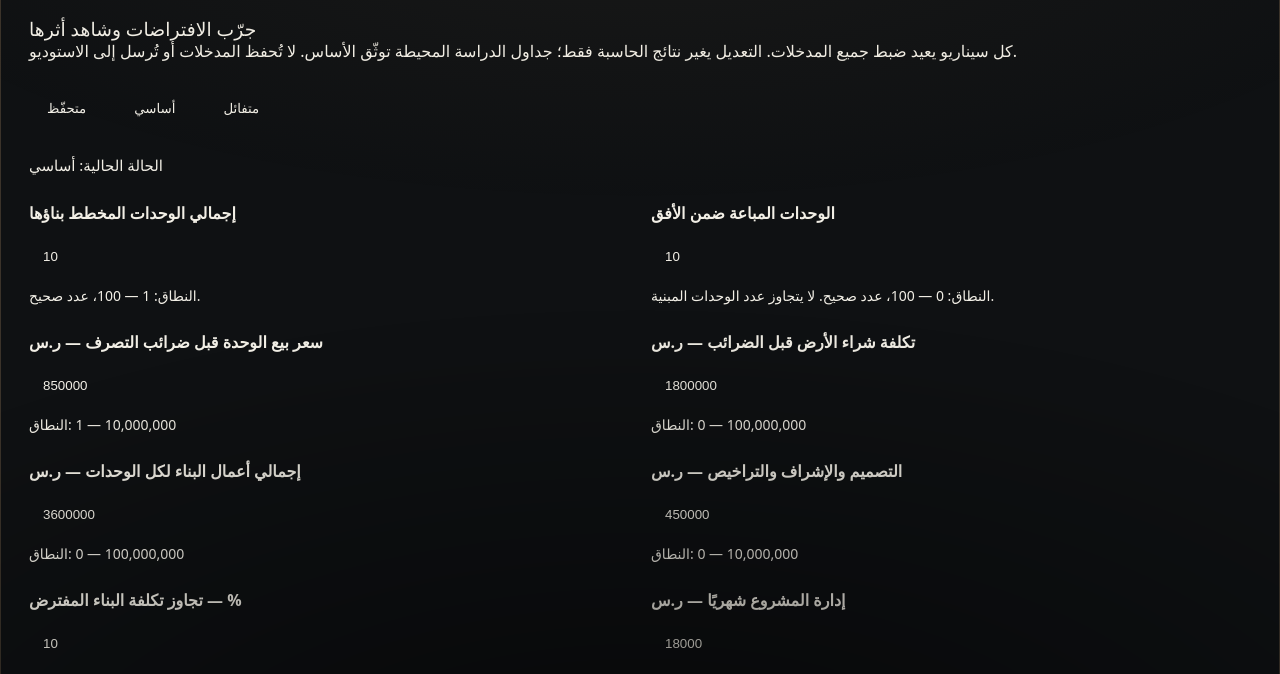
Test: Portfolio feasibility visitor journeys › exposes the development funding gap, retains unsold units and prevents selling more than built in Arabic
Replace the text in the number field labelled "الوحدات المباعة ضمن الأفق" with "8": (951, 256) x1=651 y1=232 x2=1251 y2=280
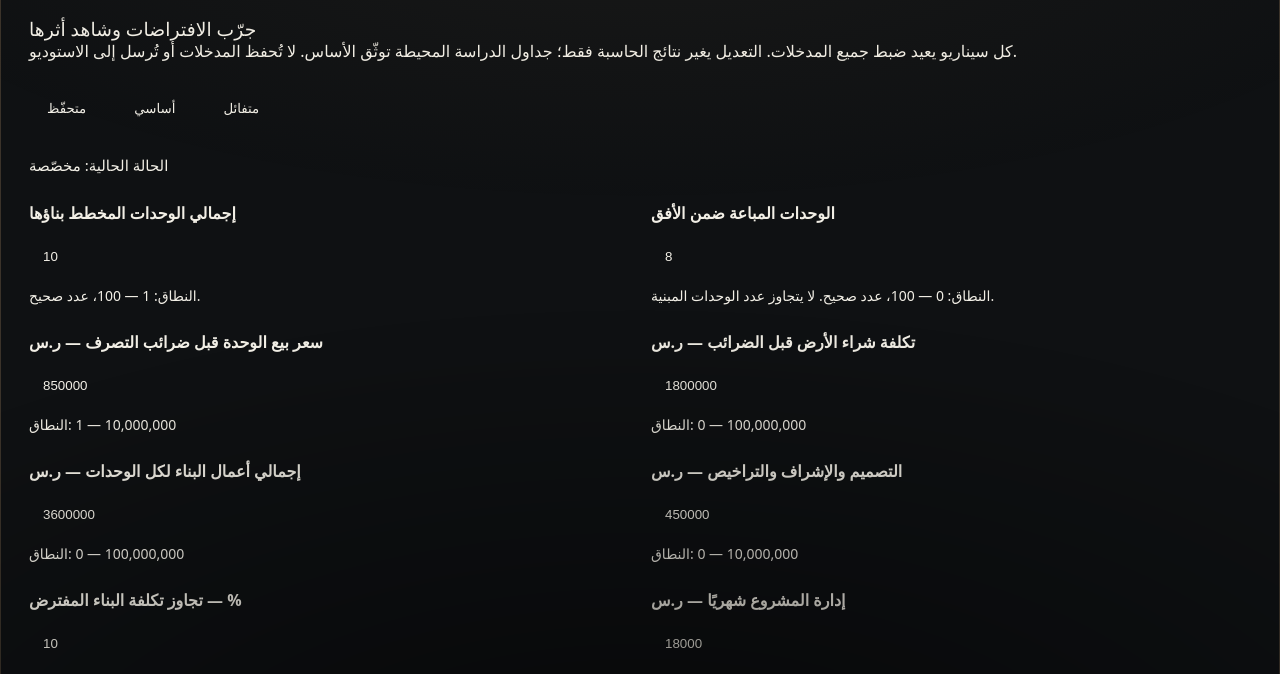
Replace the text in the number field labelled "الوحدات المباعة ضمن الأفق" with "11": (951, 256) x1=651 y1=232 x2=1251 y2=280
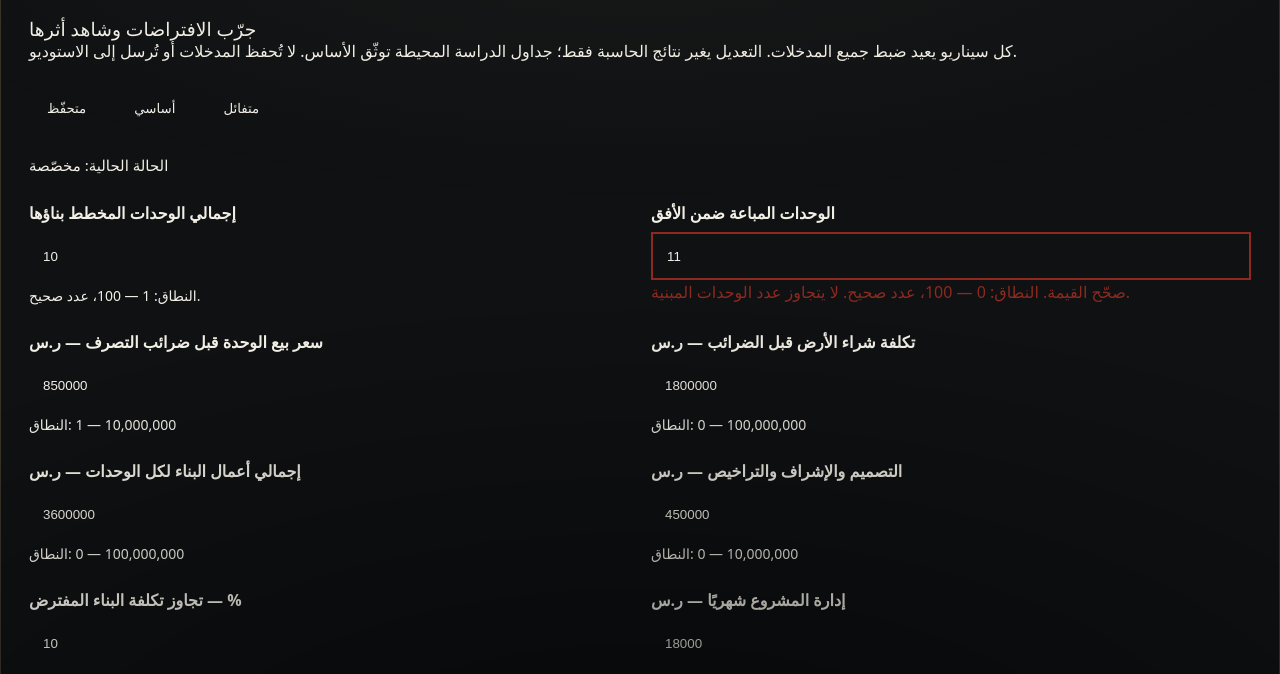
Check: the number field labelled "الوحدات المباعة ضمن الأفق" is marked as invalid, box x1=651 y1=232 x2=1251 y2=280
Click the button "أساسي": (155, 109) x1=116 y1=85 x2=193 y2=133
(page scrolled)
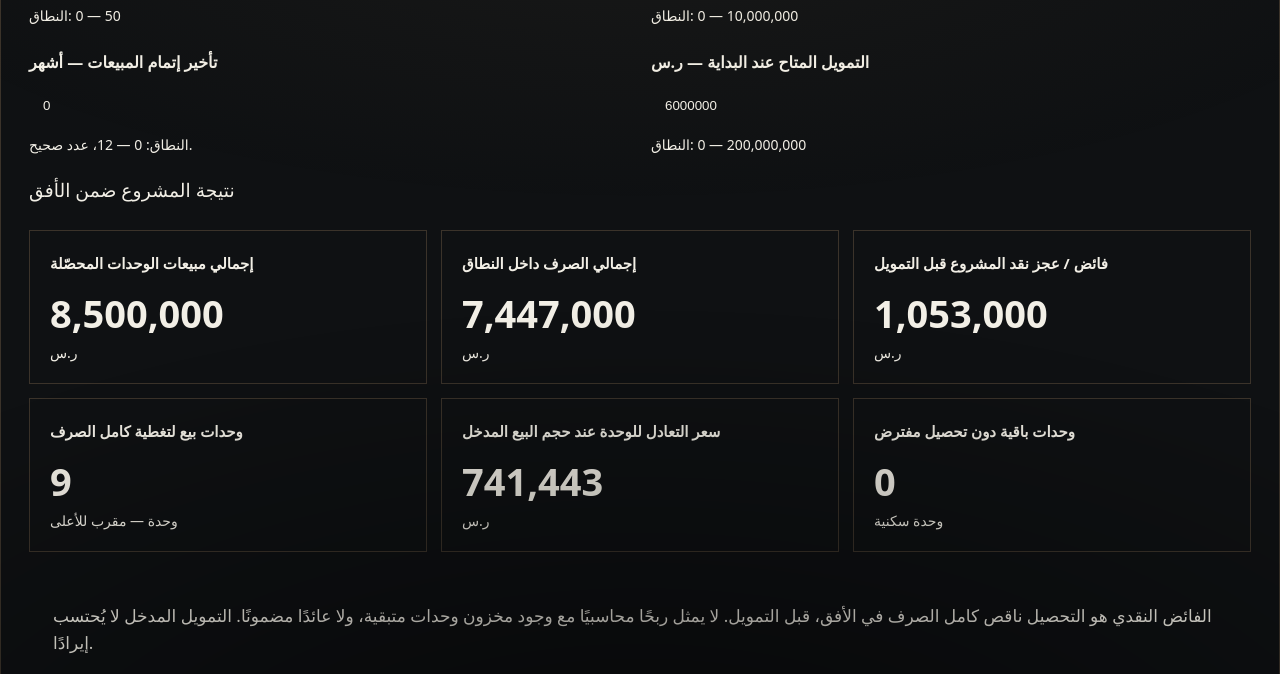
Check: the element with test id "project-surplus" shows "1,053,000", box x1=874 y1=287 x2=1048 y2=339
